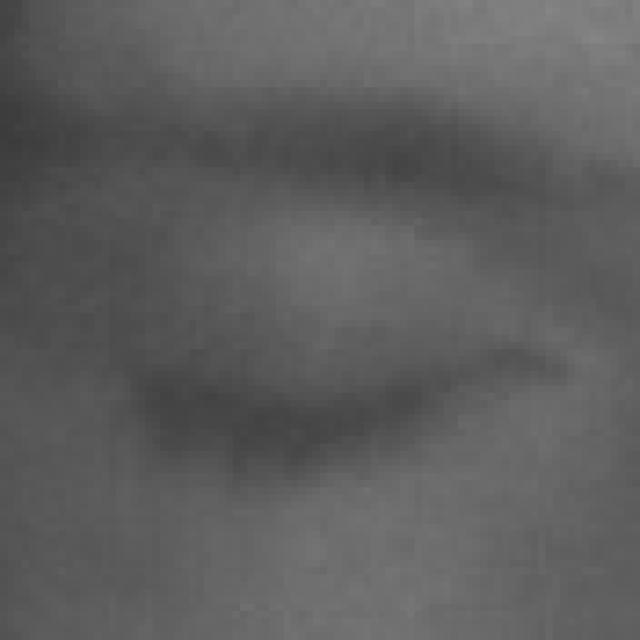Eyeclosed: (171, 239, 486, 640)
